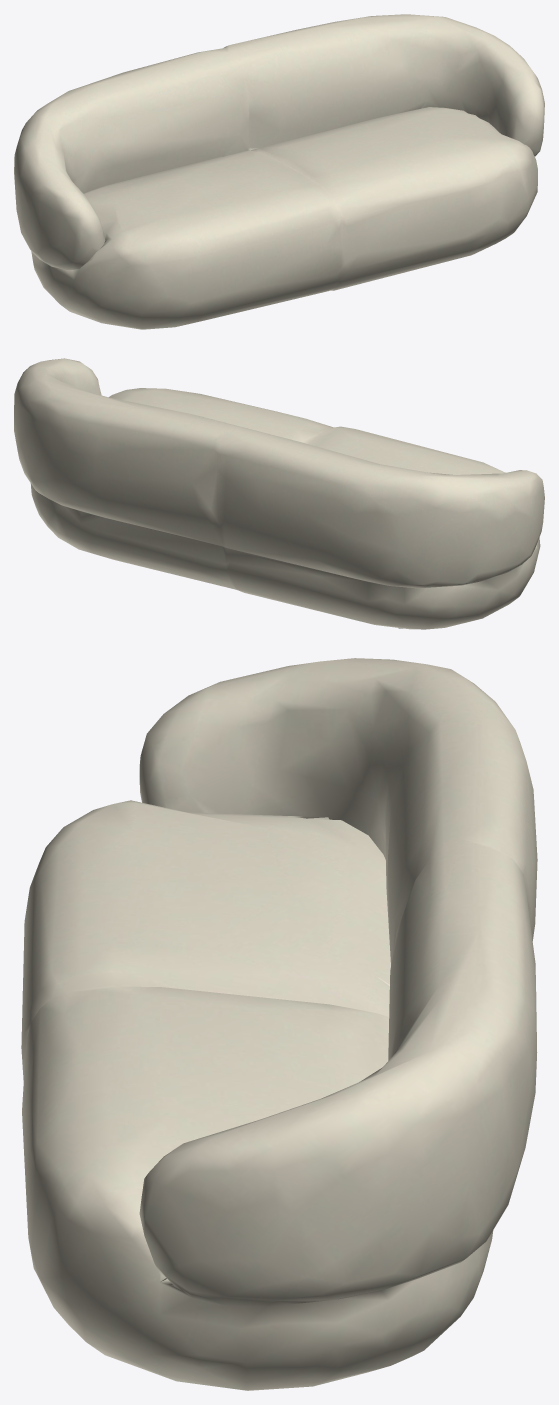
The model's file is lillesater_sofa_3_osobowa_40619071.glb.
3 renders of one model, top to bottom at view 1: azimuth 30°, elevation 25°; view 2: azimuth 150°, elevation 25°; view 3: azimuth 270°, elevation 25°, orthographic. The views are drawn at different scales.
Parts seen in each view (by area): view 1: lillesater_sofa_3_osobowa_40619071; view 2: lillesater_sofa_3_osobowa_40619071; view 3: lillesater_sofa_3_osobowa_40619071.
Boxes of the visible parts, x1,y1,x2,y2 form: lillesater_sofa_3_osobowa_40619071: (14,14,544,329); lillesater_sofa_3_osobowa_40619071: (14,358,544,629); lillesater_sofa_3_osobowa_40619071: (21,658,537,1390).
Size of the model in its own units: 2.02 by 0.6903 by 0.9008.
Materials: 1 (1 with a texture image).
